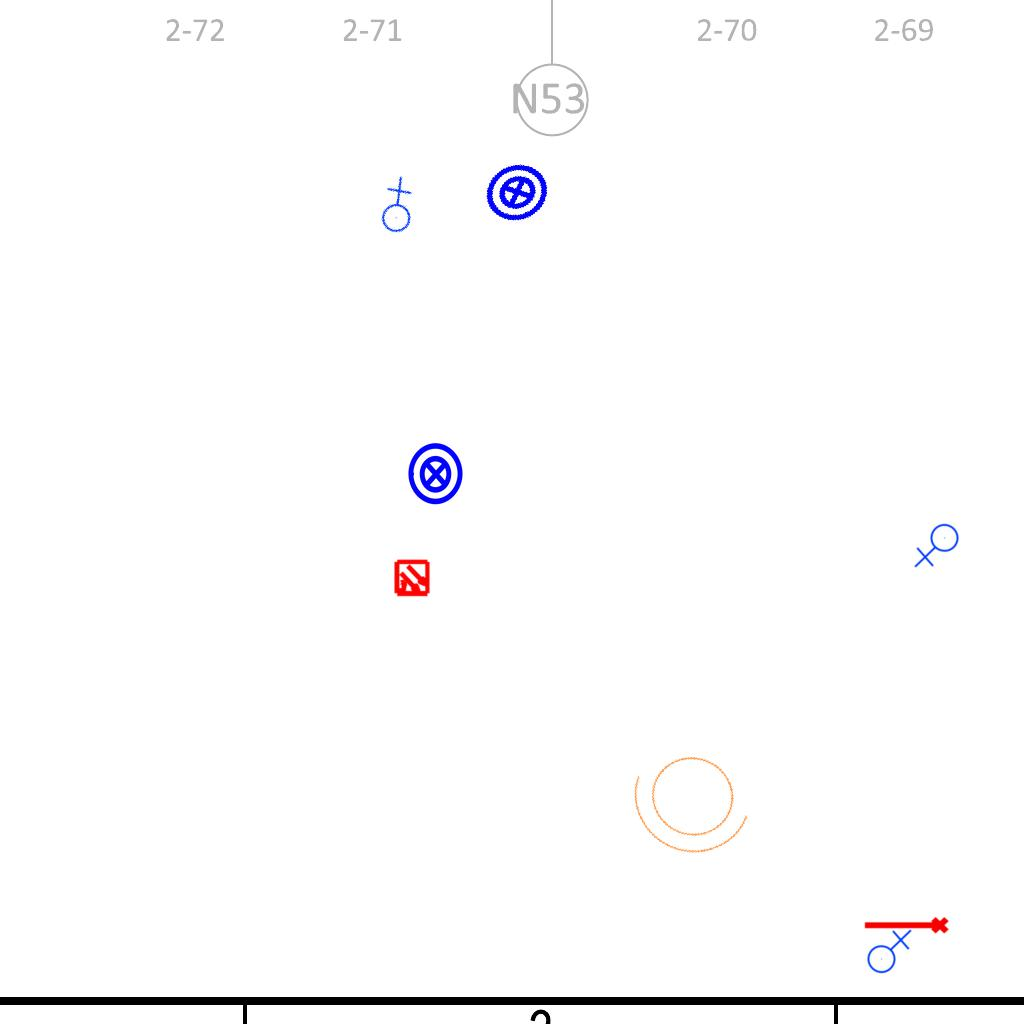ASR_Ansaugoeffnung: (862, 915, 950, 938)
Elektroanschluss_allgemein_230V_Geraeteanschlussdose_230V: (361, 173, 430, 242), (914, 523, 963, 570), (863, 927, 912, 974)
OT_Multisensormelder_(Kombination_RMO_WMD): (384, 551, 440, 607)
Scheinwerfer_fuer_Alarmbeleuchtung: (612, 726, 776, 878)
Taster_beleuchtet: (473, 148, 561, 236), (403, 441, 469, 507)
